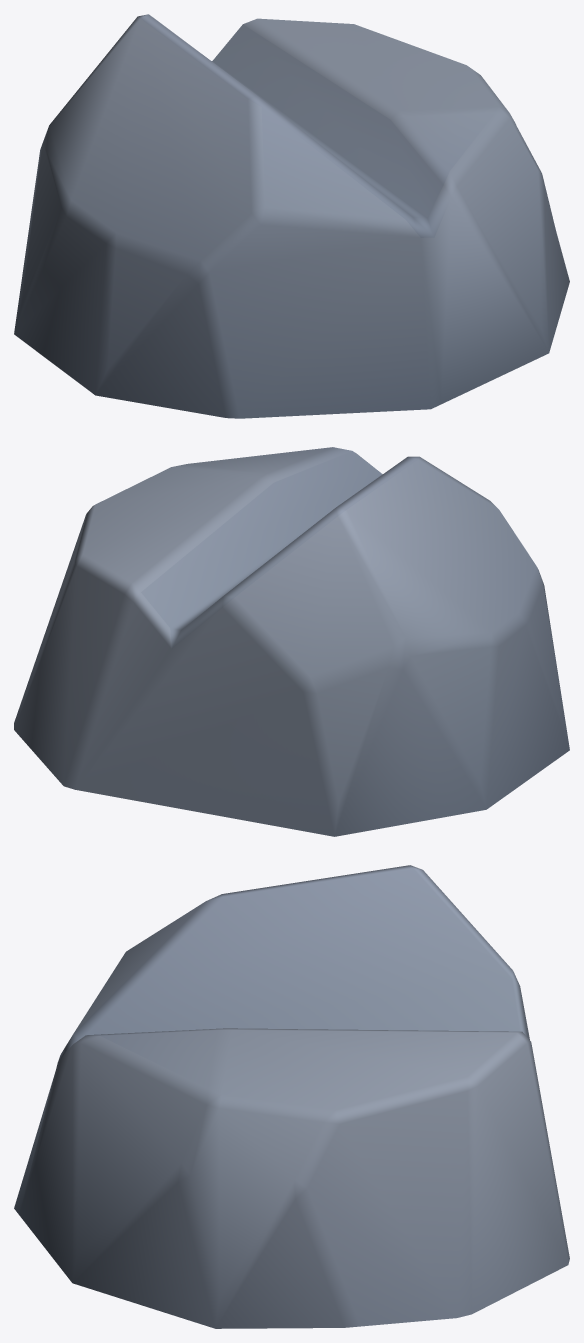
File: Stone_lvl_03.fbx
3 renders of one model, top to bottom at view 1: azimuth 30°, elevation 25°; view 2: azimuth 150°, elevation 25°; view 3: azimuth 270°, elevation 25°, orthographic. The views are drawn at different scales.
Parts seen in each view (by area): view 1: Stone_lvl_03; view 2: Stone_lvl_03; view 3: Stone_lvl_03.
Boxes of the visible parts, bbox=[...] form: Stone_lvl_03: bbox=[14, 14, 569, 418]; Stone_lvl_03: bbox=[14, 447, 569, 836]; Stone_lvl_03: bbox=[14, 865, 569, 1328].
Bounding box in the file's own units: 0.7115 × 0.4002 × 0.6905.
